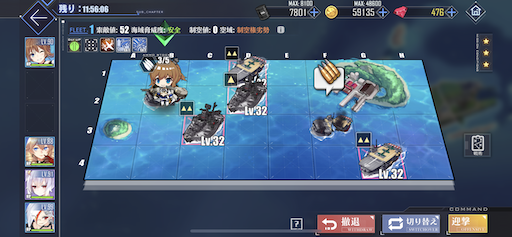lv1: (225, 74, 267, 115)
lv2: (354, 131, 405, 180), (180, 101, 224, 145), (224, 45, 267, 83)
